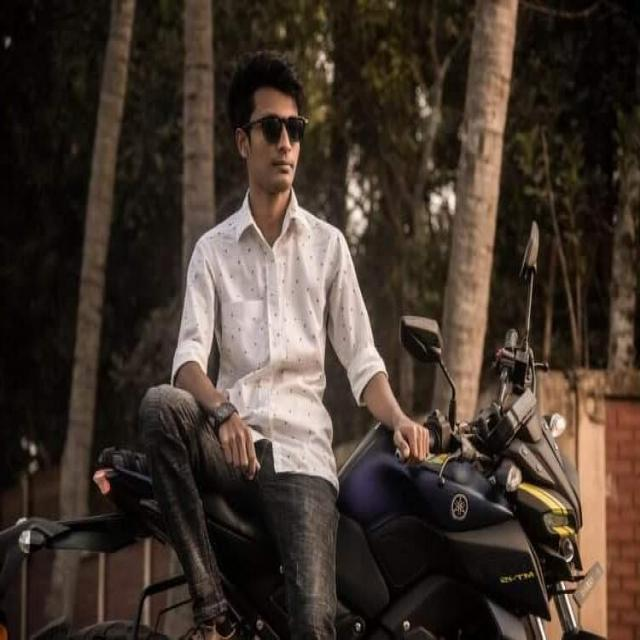No helmet: (226, 69, 313, 201)
